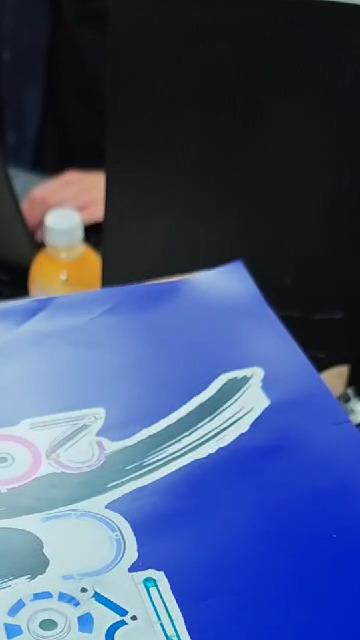B_R1: (0, 347, 258, 640)
